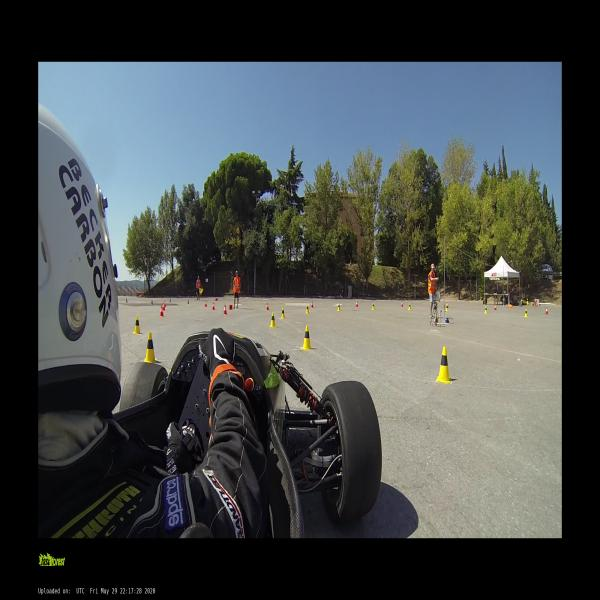blue_cone: (188, 298, 189, 304), (126, 297, 127, 303), (152, 299, 153, 304), (169, 298, 170, 302)
orange_cone: (160, 306, 164, 316), (224, 305, 227, 314), (266, 302, 269, 311), (162, 302, 165, 311), (212, 302, 215, 310), (355, 300, 358, 307), (546, 306, 548, 314), (312, 300, 314, 308), (229, 305, 232, 310), (494, 304, 496, 311), (401, 301, 403, 307), (205, 300, 207, 306), (164, 300, 166, 306)
yellow_cone: (437, 347, 450, 383), (144, 332, 157, 363), (301, 325, 312, 350), (134, 315, 141, 334), (270, 312, 276, 328), (281, 307, 285, 319), (524, 309, 528, 317), (306, 304, 309, 314), (372, 302, 375, 310), (526, 297, 529, 305), (408, 303, 411, 310), (446, 304, 449, 311), (338, 303, 340, 311), (485, 306, 487, 313)
